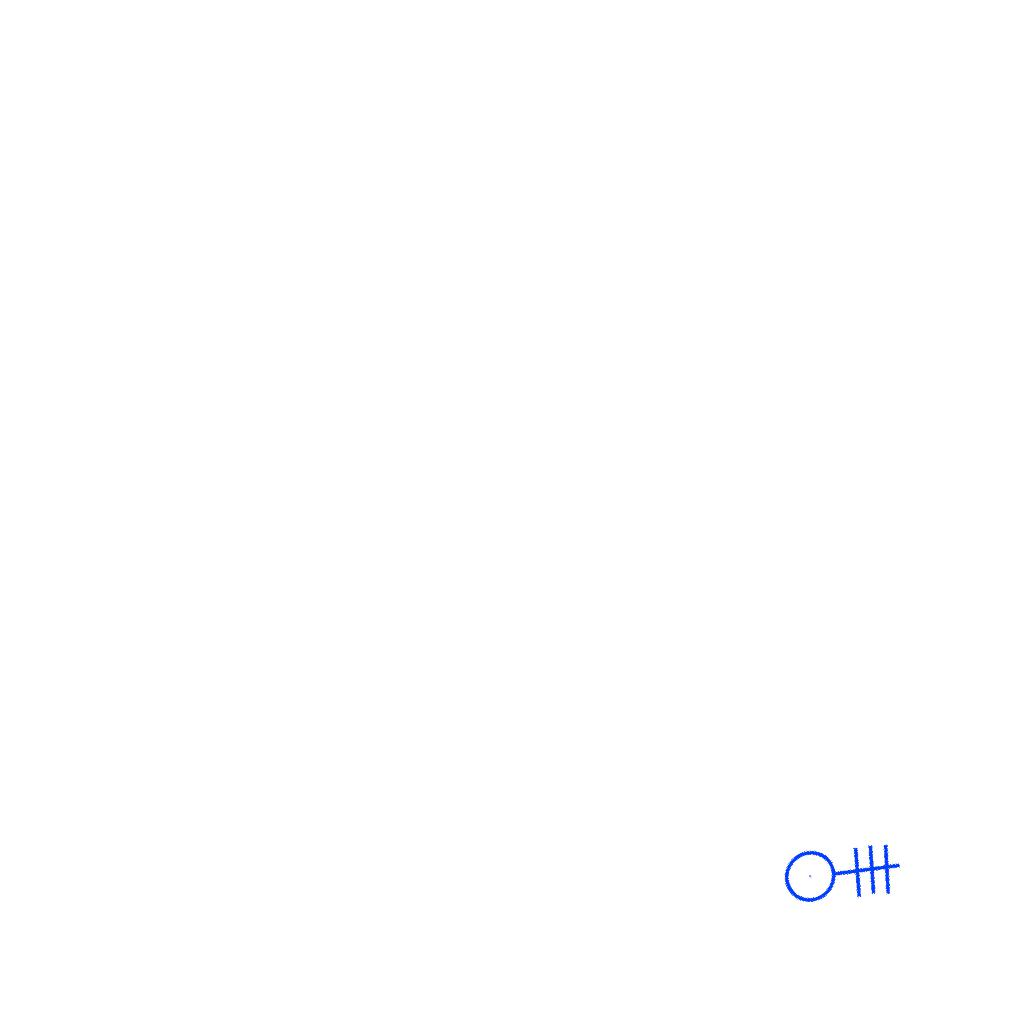Elektroanschluss_allgemein_400V_Geraeteanschlussdose_400V: (760, 783, 922, 944)
